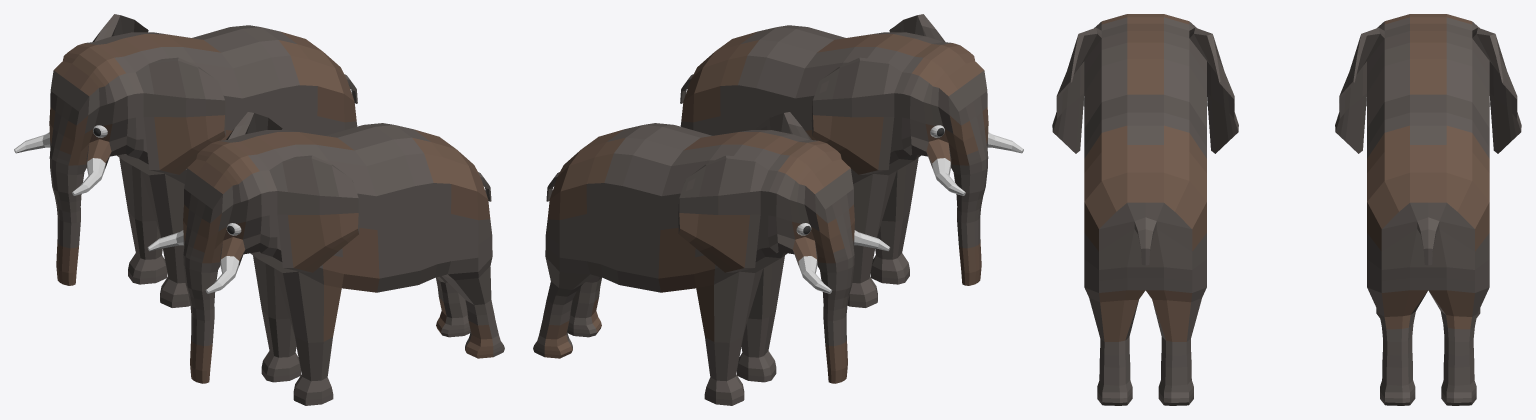
Rendered from Gajah.fbx.
The picture shows the model from 3 angles, left to right: view 1: azimuth 30°, elevation 25°; view 2: azimuth 150°, elevation 25°; view 3: azimuth 270°, elevation 25°; orthographic projection. The views are drawn at different scales.
Parts seen in each view (by area): view 1: Sphere, Plane.001; view 2: Plane.001, Sphere; view 3: Sphere, Plane.001.
Boxes of the visible parts, bbox=[...] form: Sphere: bbox=[147, 112, 504, 405]; Plane.001: bbox=[14, 14, 357, 307]; Plane.001: bbox=[533, 112, 890, 405]; Sphere: bbox=[680, 14, 1023, 307]; Sphere: bbox=[1052, 14, 1238, 405]; Plane.001: bbox=[1335, 14, 1521, 405].
Bounding box in the file's own units: 472 × 368 × 579.
